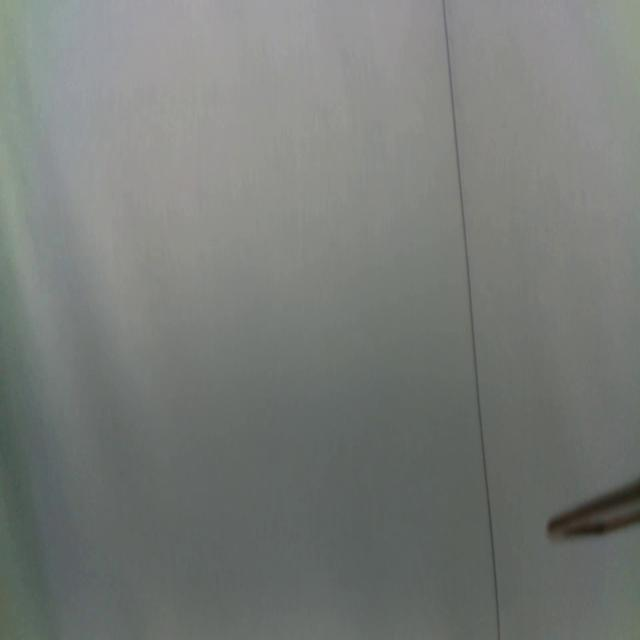crease: (440, 0, 502, 640)
